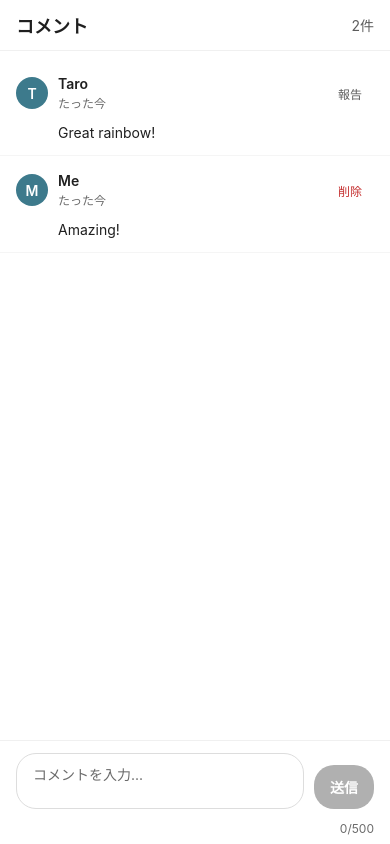
CommentList › updates character count on input
Type "Hello" into the text box named "コメント入力欄" at coordinates (160, 781), box top-left (16, 753), bottom-right (304, 809)
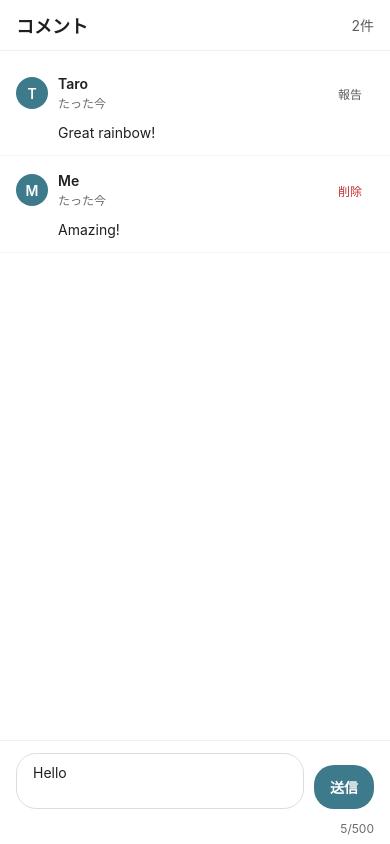
Now the text "5/500" is shown, box top-left (340, 821), bottom-right (374, 836)
